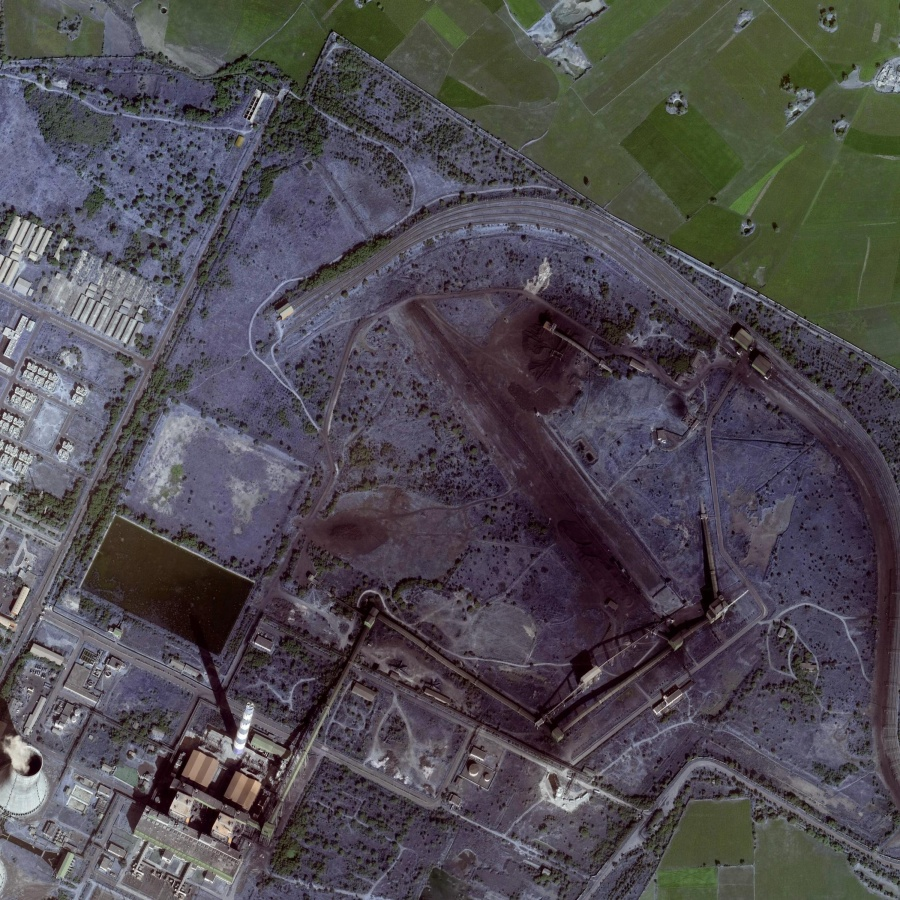PowerPlant: (365, 266, 691, 662)
